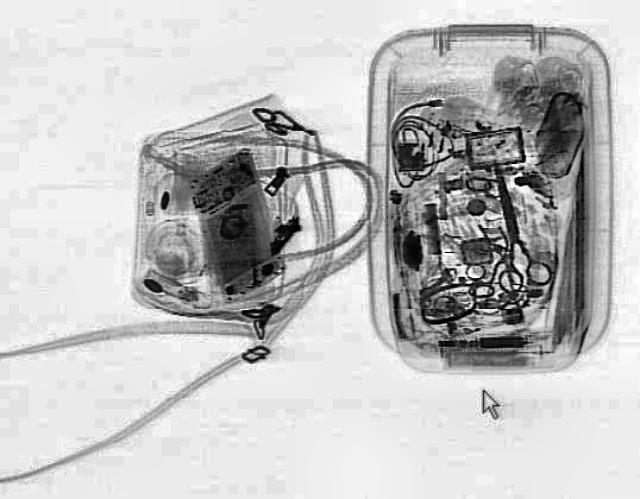Scissors: (471, 157, 554, 294)
